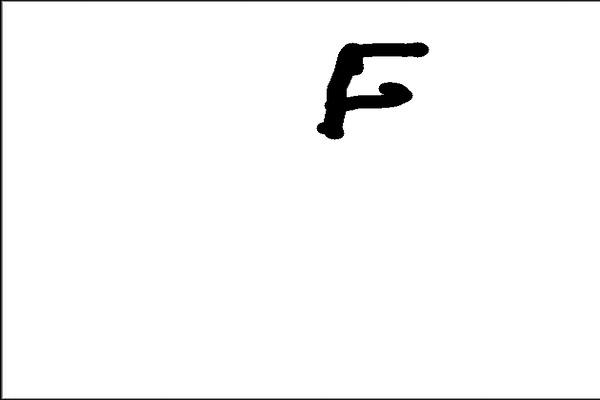F: (304, 36, 431, 143)
